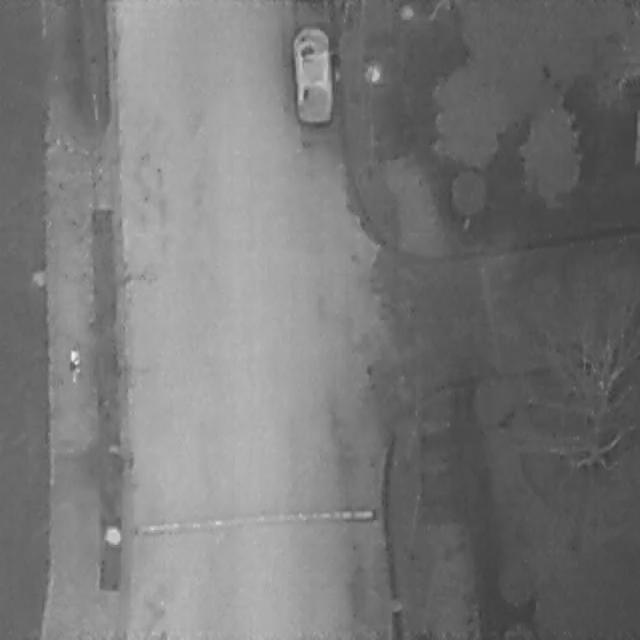Car: (292, 24, 334, 125)
Person: (66, 347, 81, 385)
